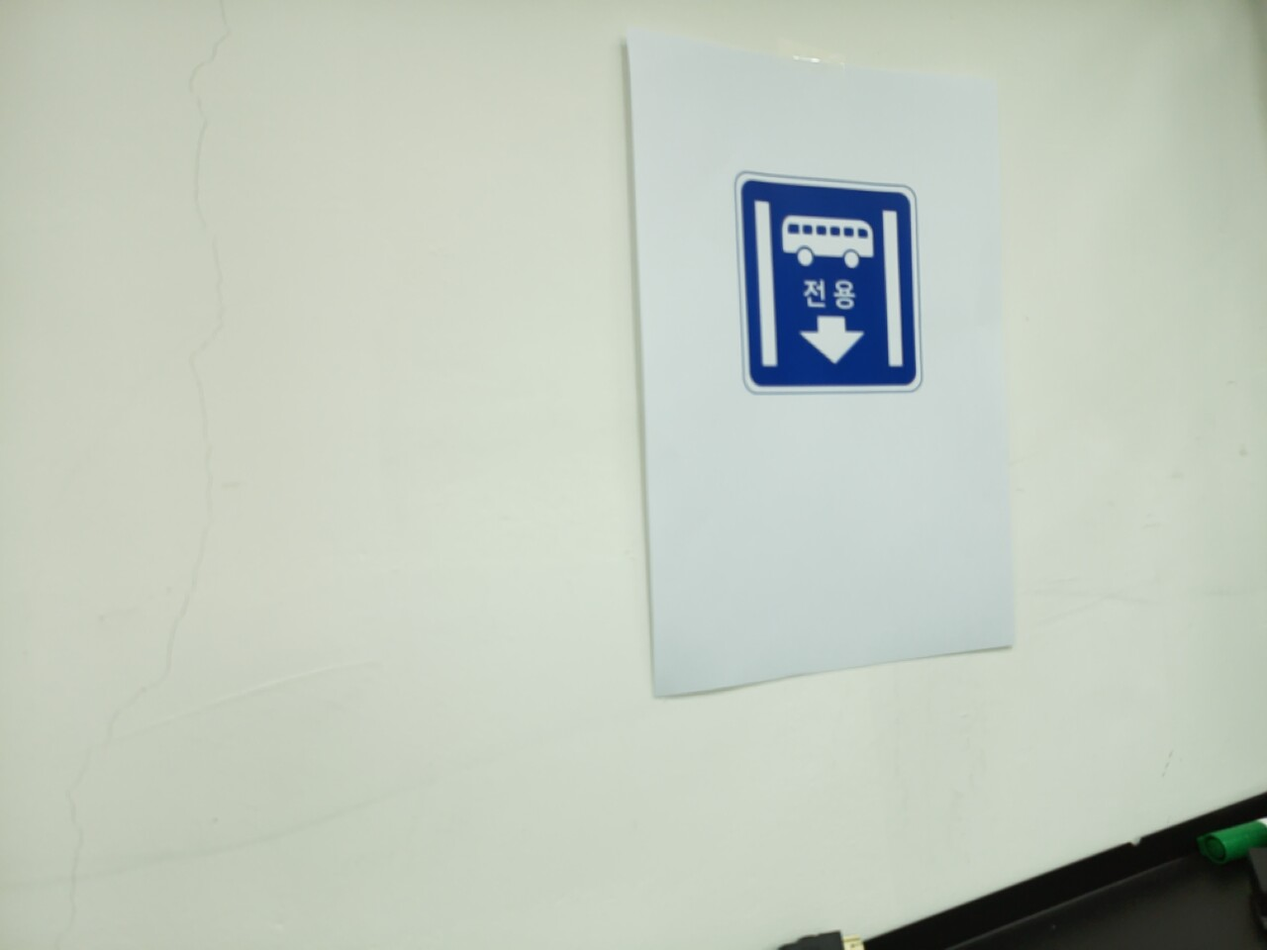bus_only_lane: (733, 172, 924, 395)
